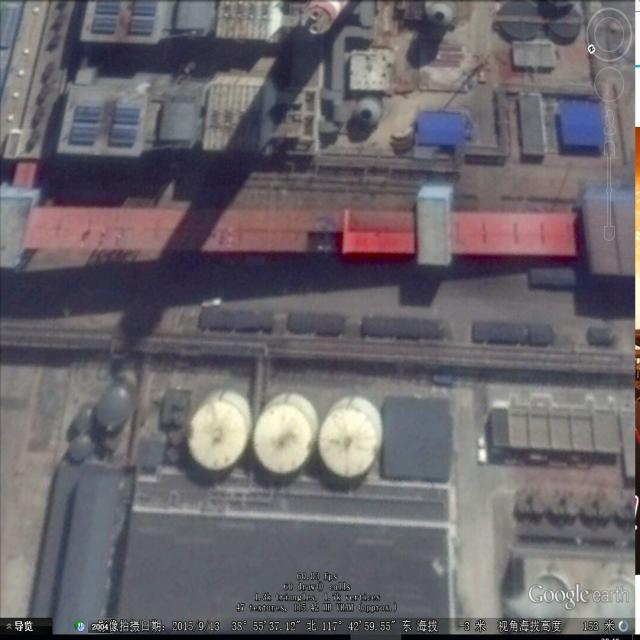oiltank: (250, 388, 322, 484), (184, 388, 255, 480), (318, 391, 387, 484), (93, 378, 141, 436)
